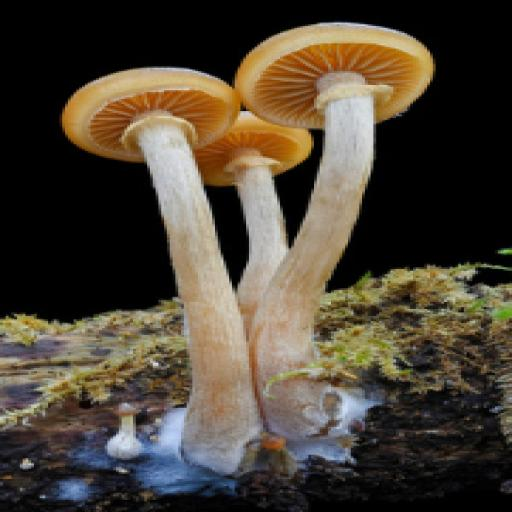Funeral Bell: (55, 15, 450, 468)
